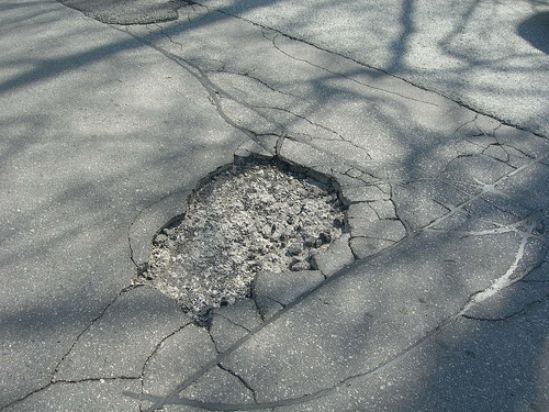pothole: (128, 146, 351, 329)
